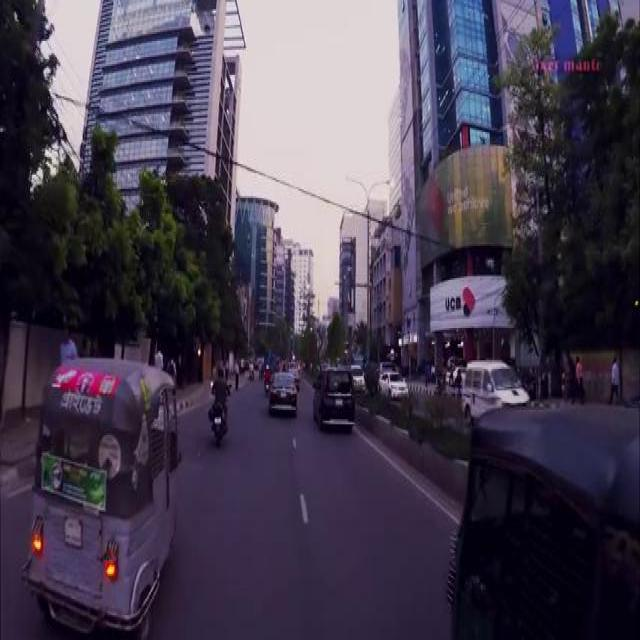car: (268, 369, 296, 410), (377, 370, 407, 395)
minivan: (460, 357, 528, 418), (311, 366, 355, 427)
motorbike: (208, 379, 230, 443), (263, 371, 269, 390)
three wheelers -CNG-: (440, 401, 638, 637), (19, 352, 179, 632)
